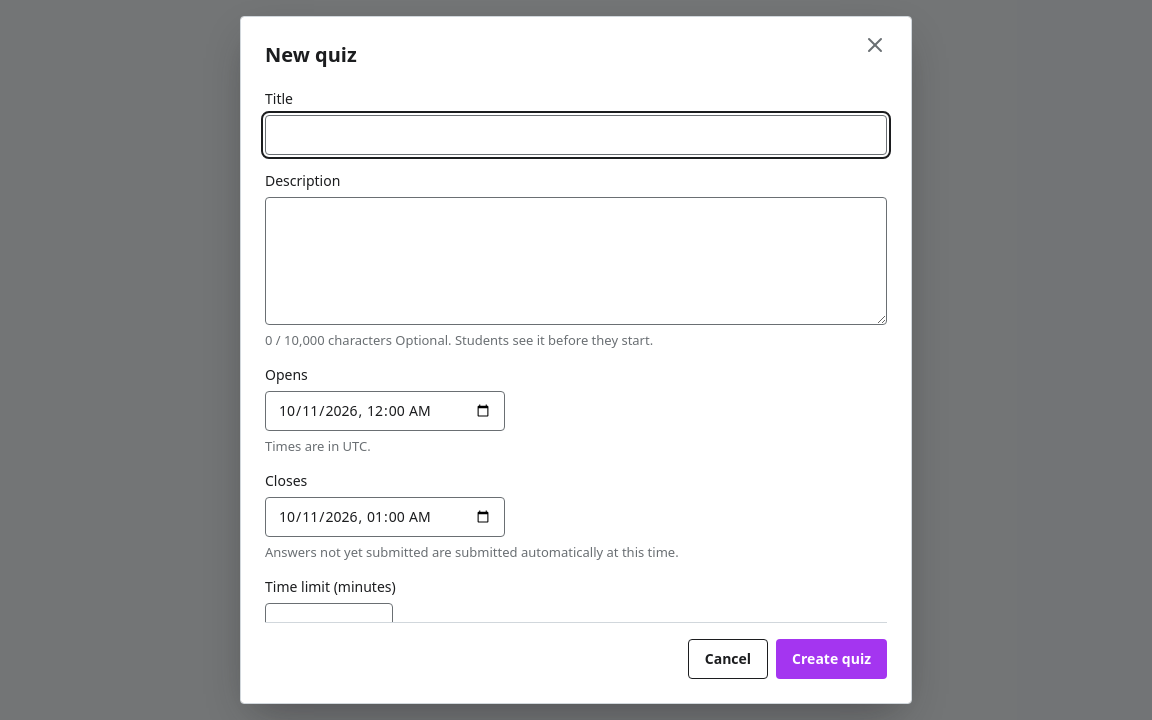
Test: maps a server closesAt error under Closes
In the field labelled "Title": (576, 135) 265,115 -> 887,155, type "Week 3 check"
(page scrolled)
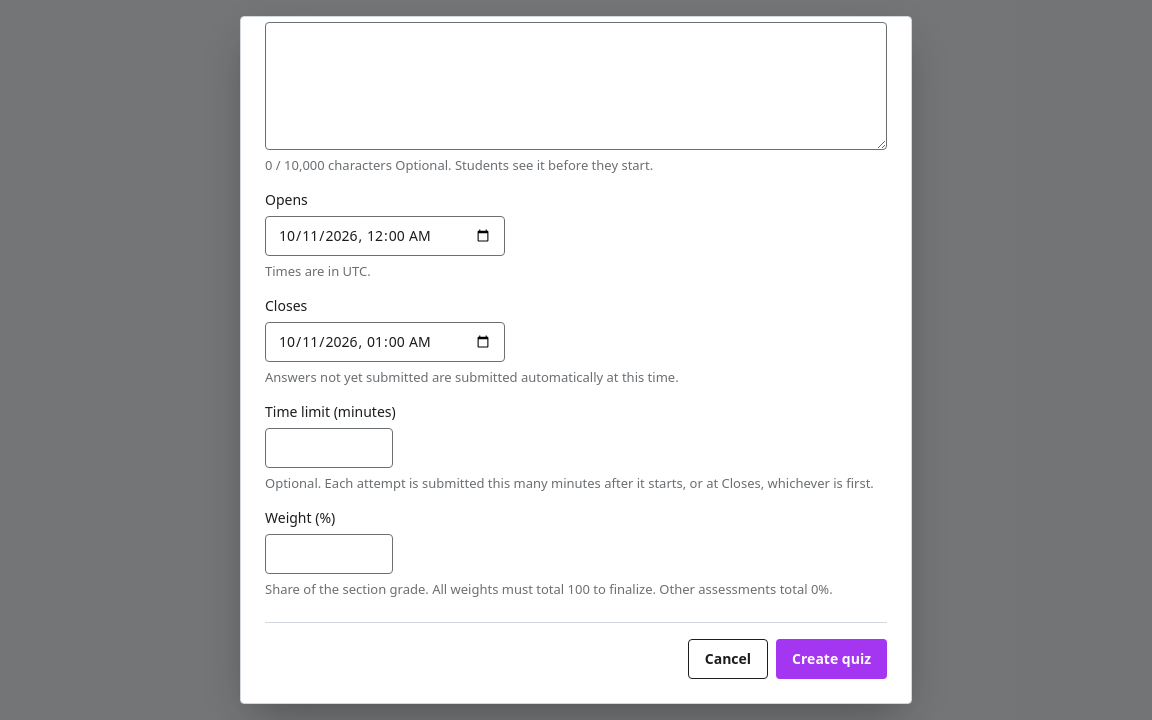
In the field labelled "Weight (%)": (329, 554) 265,534 -> 393,574, type "40"
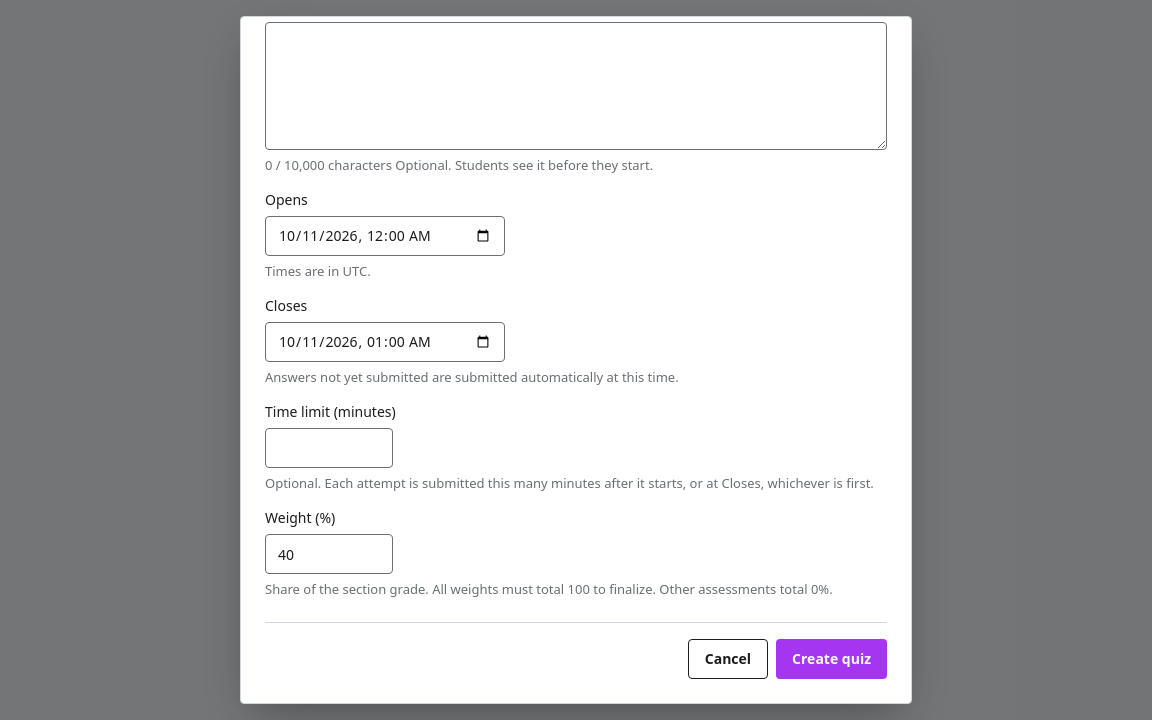
Click the button "Create quiz": (832, 659) 776,639 -> 887,679
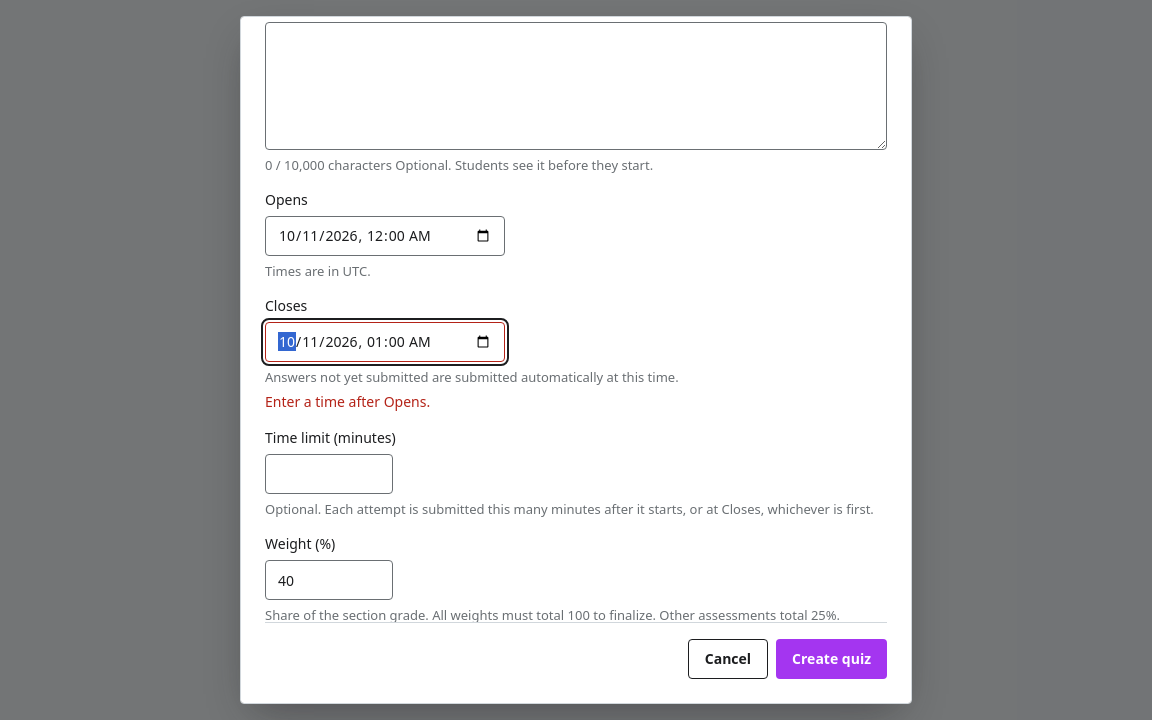
Now the text "Enter a time after Opens." is shown, box 264,391 -> 430,411
